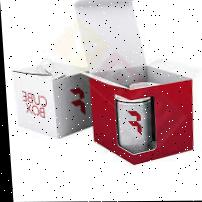cube: (87, 66, 195, 164), (14, 67, 86, 136)
